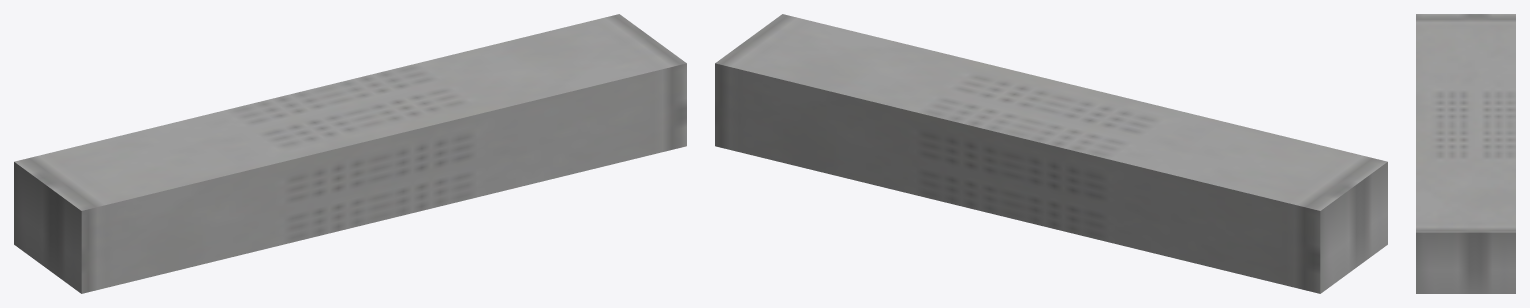
The model's file is Colony_Step_Art.fbx.
3 views of the same model, side by side, from view 1: azimuth 30°, elevation 25°; view 2: azimuth 150°, elevation 25°; view 3: azimuth 270°, elevation 25° (orthographic). The views are drawn at different scales.
Parts seen in each view (by area): view 1: Colony_Step_Art; view 2: Colony_Step_Art; view 3: Colony_Step_Art.
Boxes of the visible parts, box(x1,y1,x2,y2) form: Colony_Step_Art: box(14, 14, 686, 293); Colony_Step_Art: box(715, 14, 1387, 293); Colony_Step_Art: box(1416, 14, 1515, 293).
Size of the model in its own units: 229 by 30 by 44.2.
